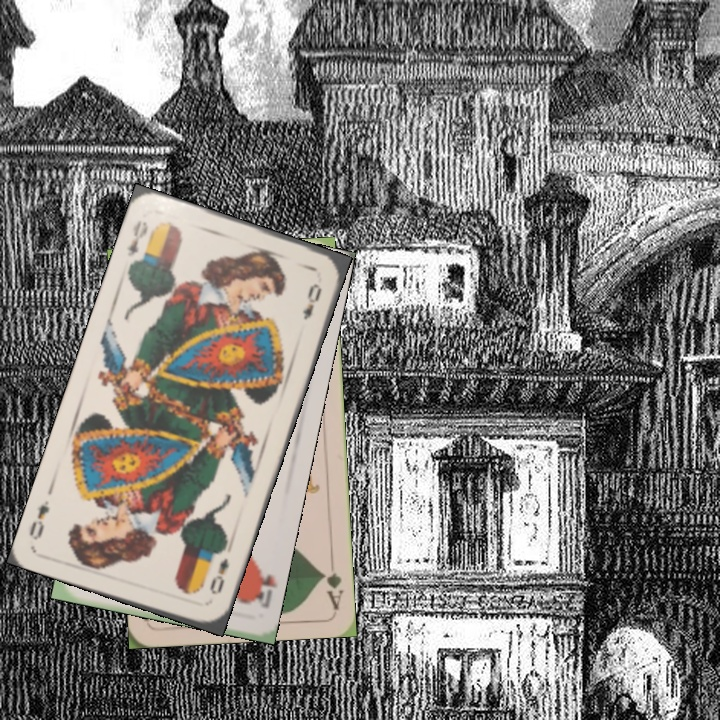EO: (123, 216, 151, 259), (205, 554, 232, 597)
GA: (318, 552, 346, 611)
HO: (246, 561, 278, 611)
